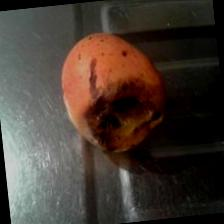Mango Rotten: (54, 22, 169, 161)
